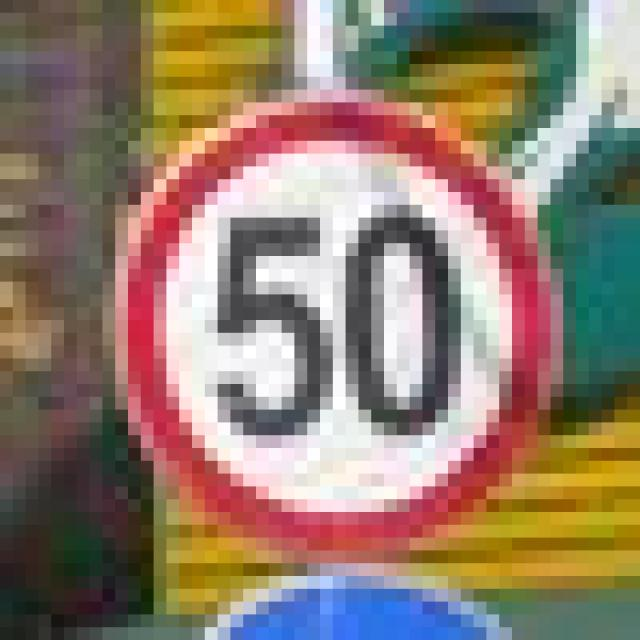speed_limit_30: (90, 77, 550, 563)
